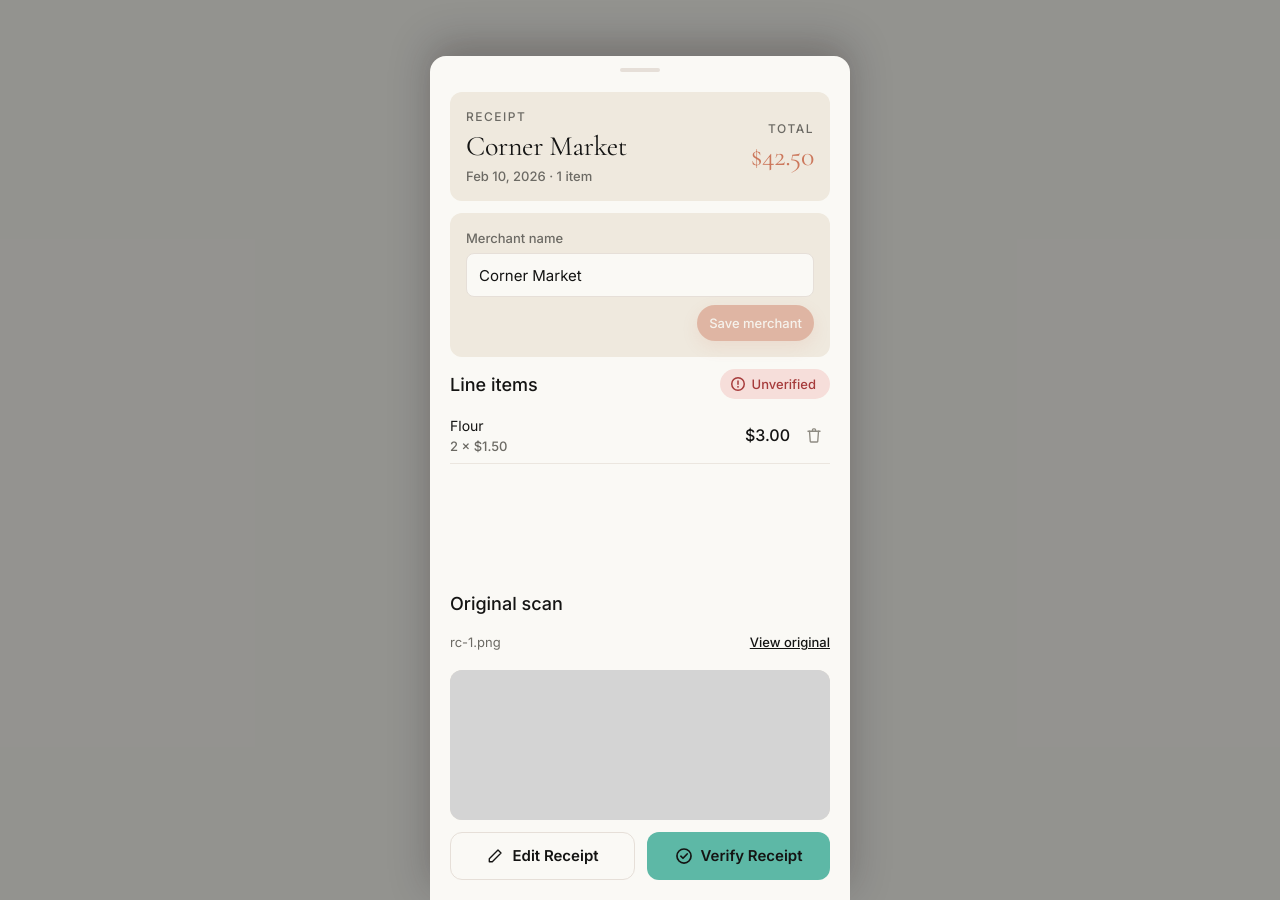
Scenario: ReceiptDetailPage verification › sends every extracted line as accepted and flips the sheet to verified
Click the button "Verify Receipt" at [738, 856], box [647,832,830,880]
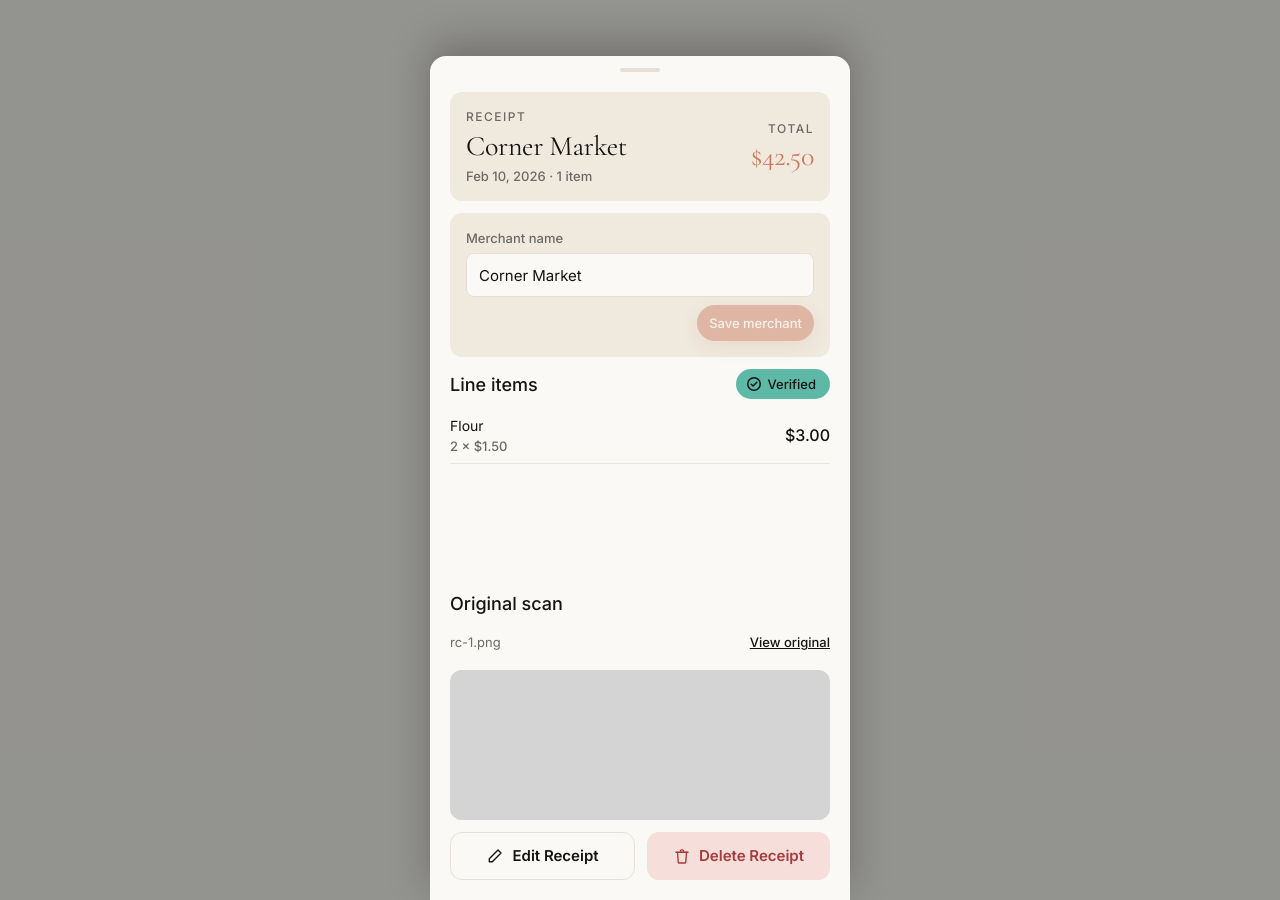
Check: the text "Verified" is shown, box [736,369,830,399]
Check: the button "Verify Receipt" is gone
